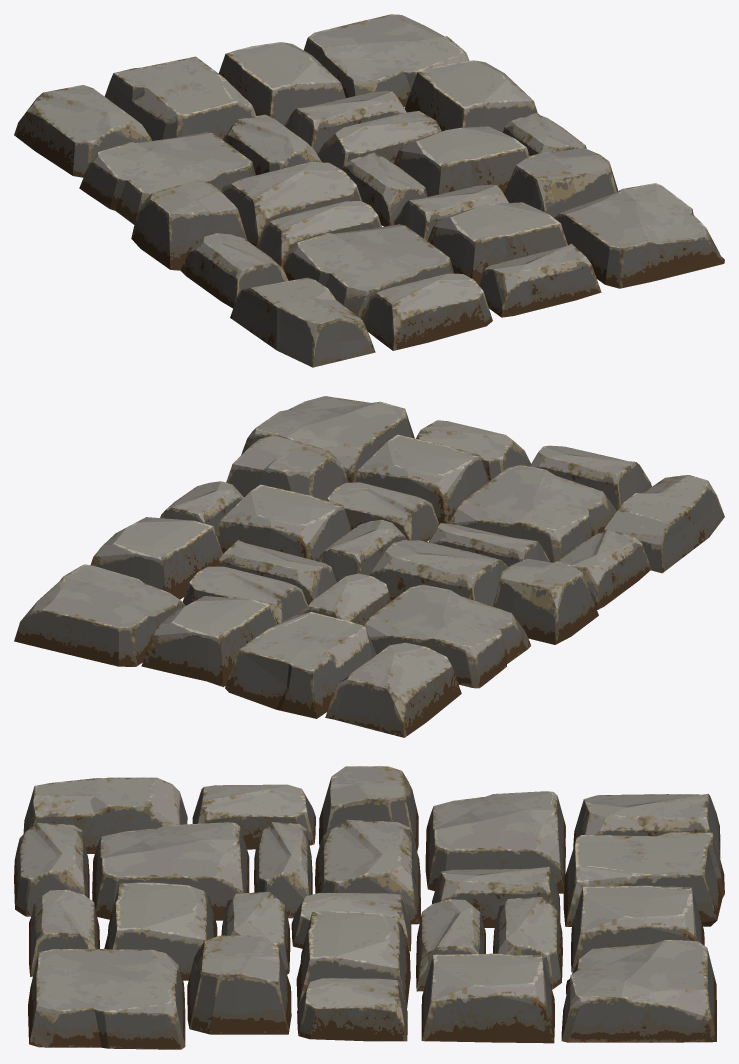
The model's file is RockPath_Square_Thin__go_coast.glb.
3 views of the same model, one above another, from view 1: azimuth 30°, elevation 25°; view 2: azimuth 150°, elevation 25°; view 3: azimuth 270°, elevation 25° (orthographic). The views are drawn at different scales.
Parts seen in each view (by area): view 1: RockPath_Square_Thin; view 2: RockPath_Square_Thin; view 3: RockPath_Square_Thin.
Boxes of the visible parts, left/top/right/bottom form: RockPath_Square_Thin: left=14, top=14, right=724, bottom=367; RockPath_Square_Thin: left=14, top=396, right=724, bottom=737; RockPath_Square_Thin: left=14, top=766, right=724, bottom=1049.
Size of the model in its own units: 1.56 by 0.1763 by 1.99.
1 material, 1 textured.
